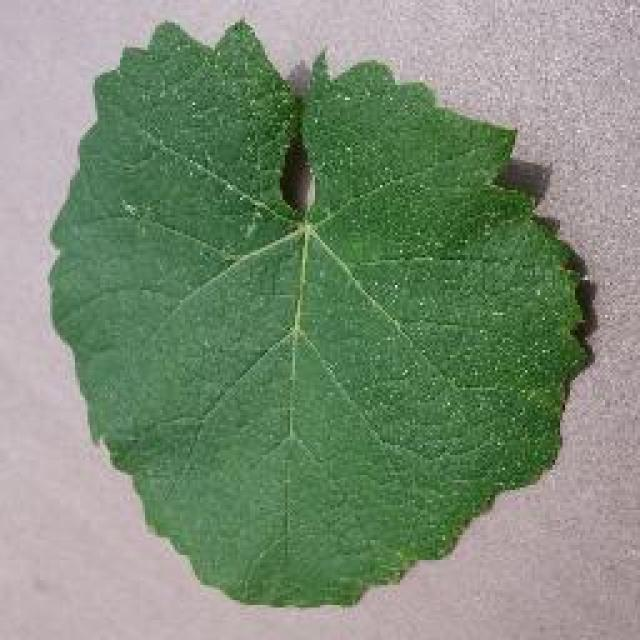Grape___healthy: (43, 16, 600, 611)
